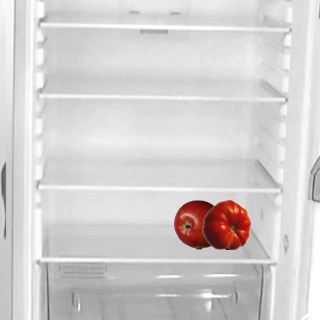Apple Braeburn: (173, 199, 223, 249)
Tomato 3: (201, 199, 251, 249)
